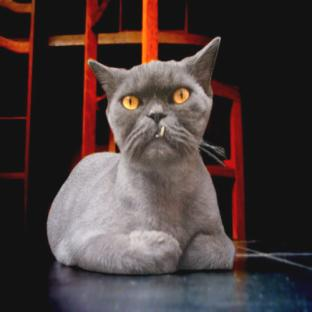Animal: (47, 37, 234, 274)
